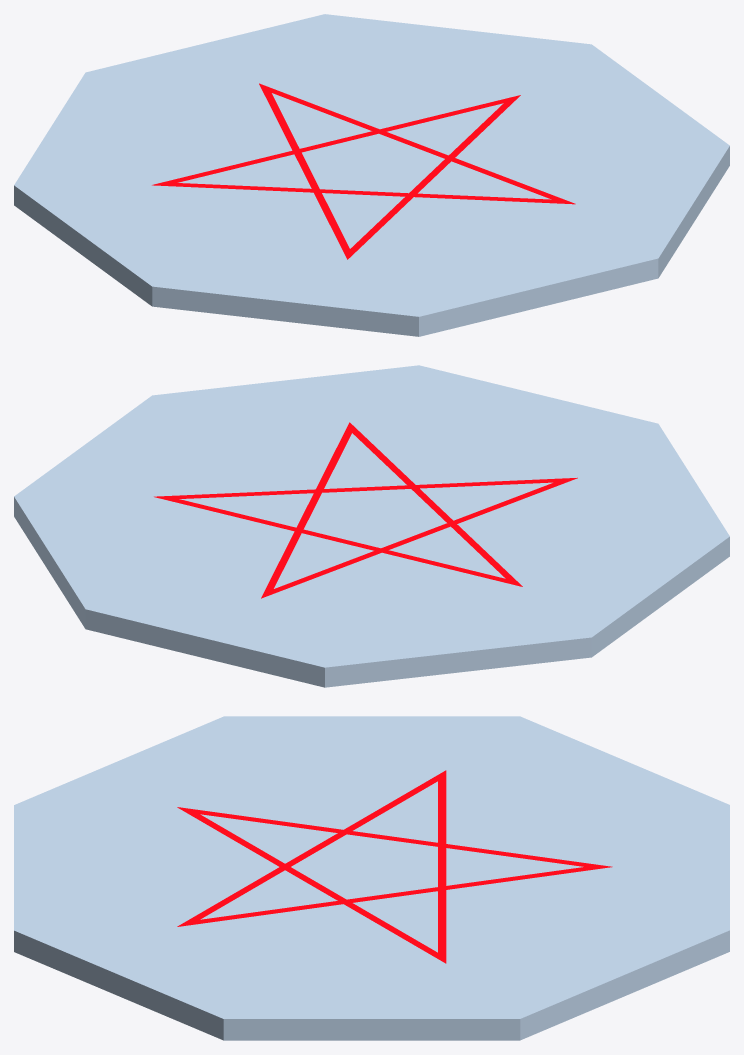
File: evil_bottom 1.fbx
The picture shows the model from 3 angles, top to bottom: view 1: azimuth 30°, elevation 25°; view 2: azimuth 150°, elevation 25°; view 3: azimuth 270°, elevation 25°; orthographic projection. The views are drawn at different scales.
Visible parts, largest first — view 1: Cylinder, pentagram; view 2: Cylinder, pentagram; view 3: Cylinder, pentagram.
Part boxes in pixels (box(x1,y1,x2,y2)): Cylinder: box(14, 14, 729, 336); pentagram: box(152, 83, 575, 259); Cylinder: box(14, 365, 729, 687); pentagram: box(154, 422, 577, 598); Cylinder: box(14, 716, 729, 1040); pentagram: box(177, 770, 612, 963).
Size of the model in its own units: 514 by 17.45 by 514.
